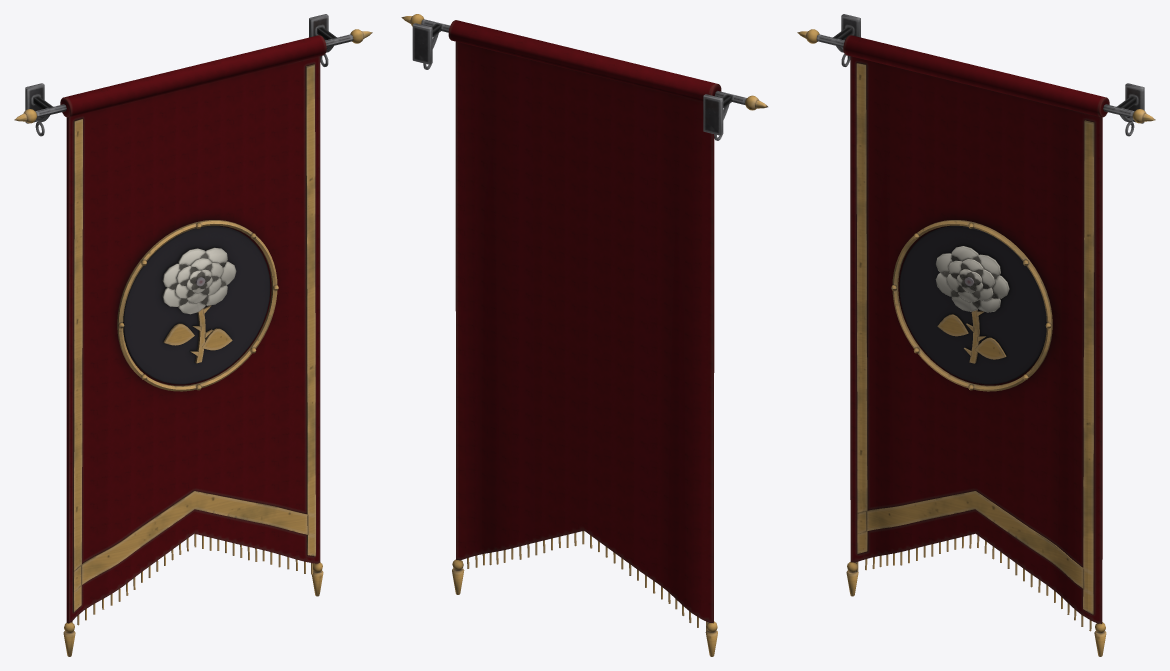
File: BannerCrimson.fbx
The picture shows the model from 3 angles, left to right: view 1: azimuth 30°, elevation 25°; view 2: azimuth 150°, elevation 25°; view 3: azimuth 330°, elevation 25°; orthographic projection. The views are drawn at different scales.
Visible parts, largest first — view 1: BannerCrimson_Cloth, BannerCrimson_Main; view 2: BannerCrimson_Cloth, BannerCrimson_Main; view 3: BannerCrimson_Cloth, BannerCrimson_Main.
Part boxes in pixels (box(x1,y1,x2,y2)): BannerCrimson_Cloth: box(60, 35, 326, 656); BannerCrimson_Main: box(14, 14, 372, 136); BannerCrimson_Cloth: box(448, 20, 721, 656); BannerCrimson_Main: box(401, 14, 767, 140); BannerCrimson_Cloth: box(843, 35, 1109, 656); BannerCrimson_Main: box(797, 14, 1155, 136).
Size of the model in its own units: 399 by 599 by 49.
